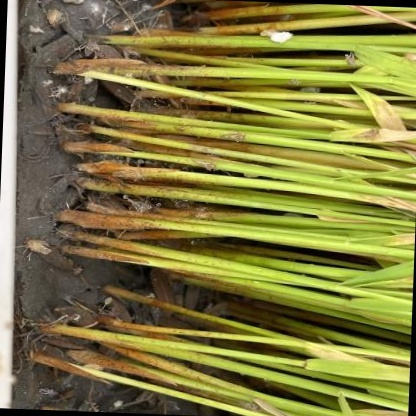Brown_hopper: (15, 233, 52, 265), (346, 124, 387, 148), (37, 8, 72, 34), (185, 157, 222, 175), (220, 126, 251, 147), (177, 111, 204, 126), (342, 52, 361, 71), (193, 209, 217, 224), (254, 27, 279, 38), (402, 51, 416, 69)
